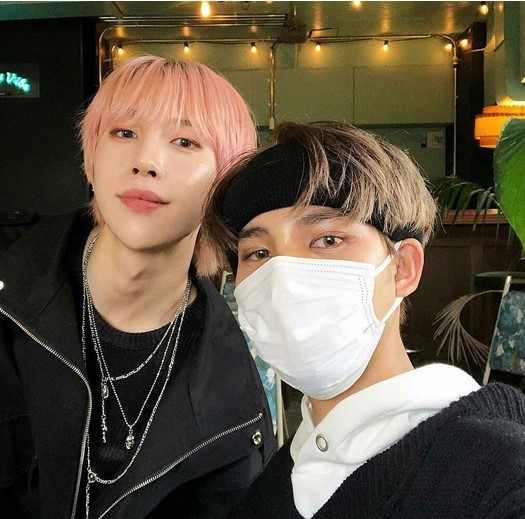face_no_mask: (84, 57, 240, 260)
face_with_mask: (225, 129, 427, 401)
